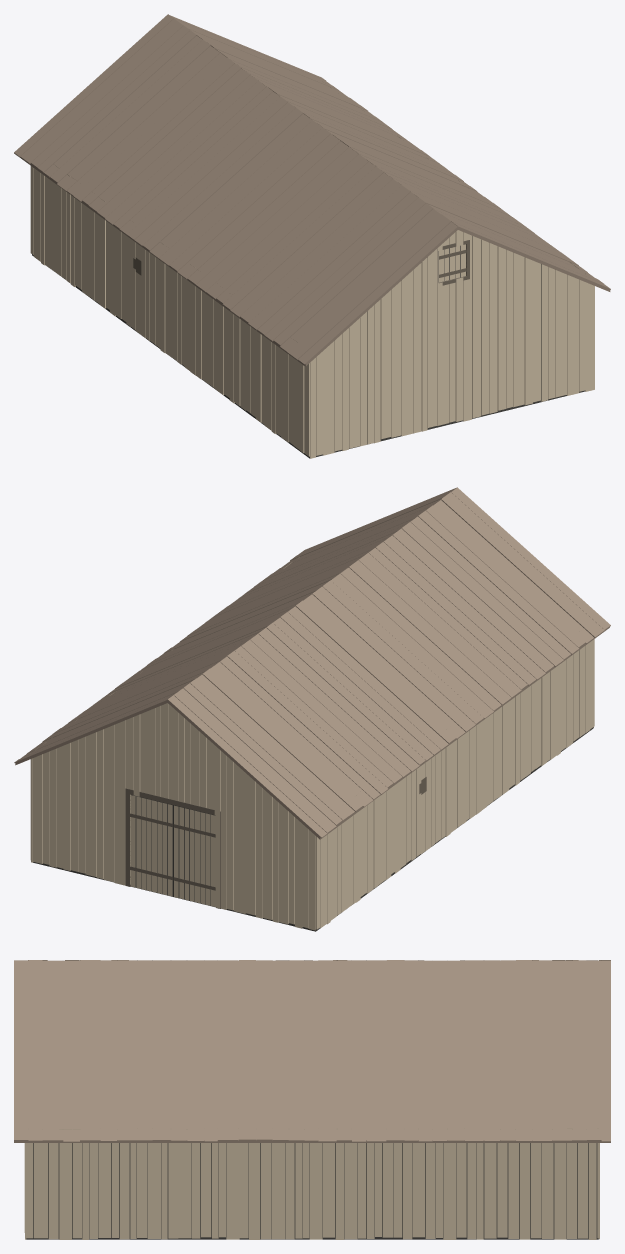
Rendered from recon_1835_north_w5_040__inferred_1835.glb.
3 views of the same model, one above another, from view 1: azimuth 30°, elevation 25°; view 2: azimuth 150°, elevation 25°; view 3: azimuth 270°, elevation 25° (orthographic). The views are drawn at different scales.
Parts seen in each view (by area): view 1: recon_1835_north_w5_040__inferred_1835; view 2: recon_1835_north_w5_040__inferred_1835; view 3: recon_1835_north_w5_040__inferred_1835.
Part boxes in pixels (left/top/right/bottom): recon_1835_north_w5_040__inferred_1835: left=14, top=14, right=610, bottom=458; recon_1835_north_w5_040__inferred_1835: left=14, top=487, right=610, bottom=931; recon_1835_north_w5_040__inferred_1835: left=14, top=960, right=610, bottom=1239.
Size of the model in its own units: 10.46 by 6.56 by 17.03.
